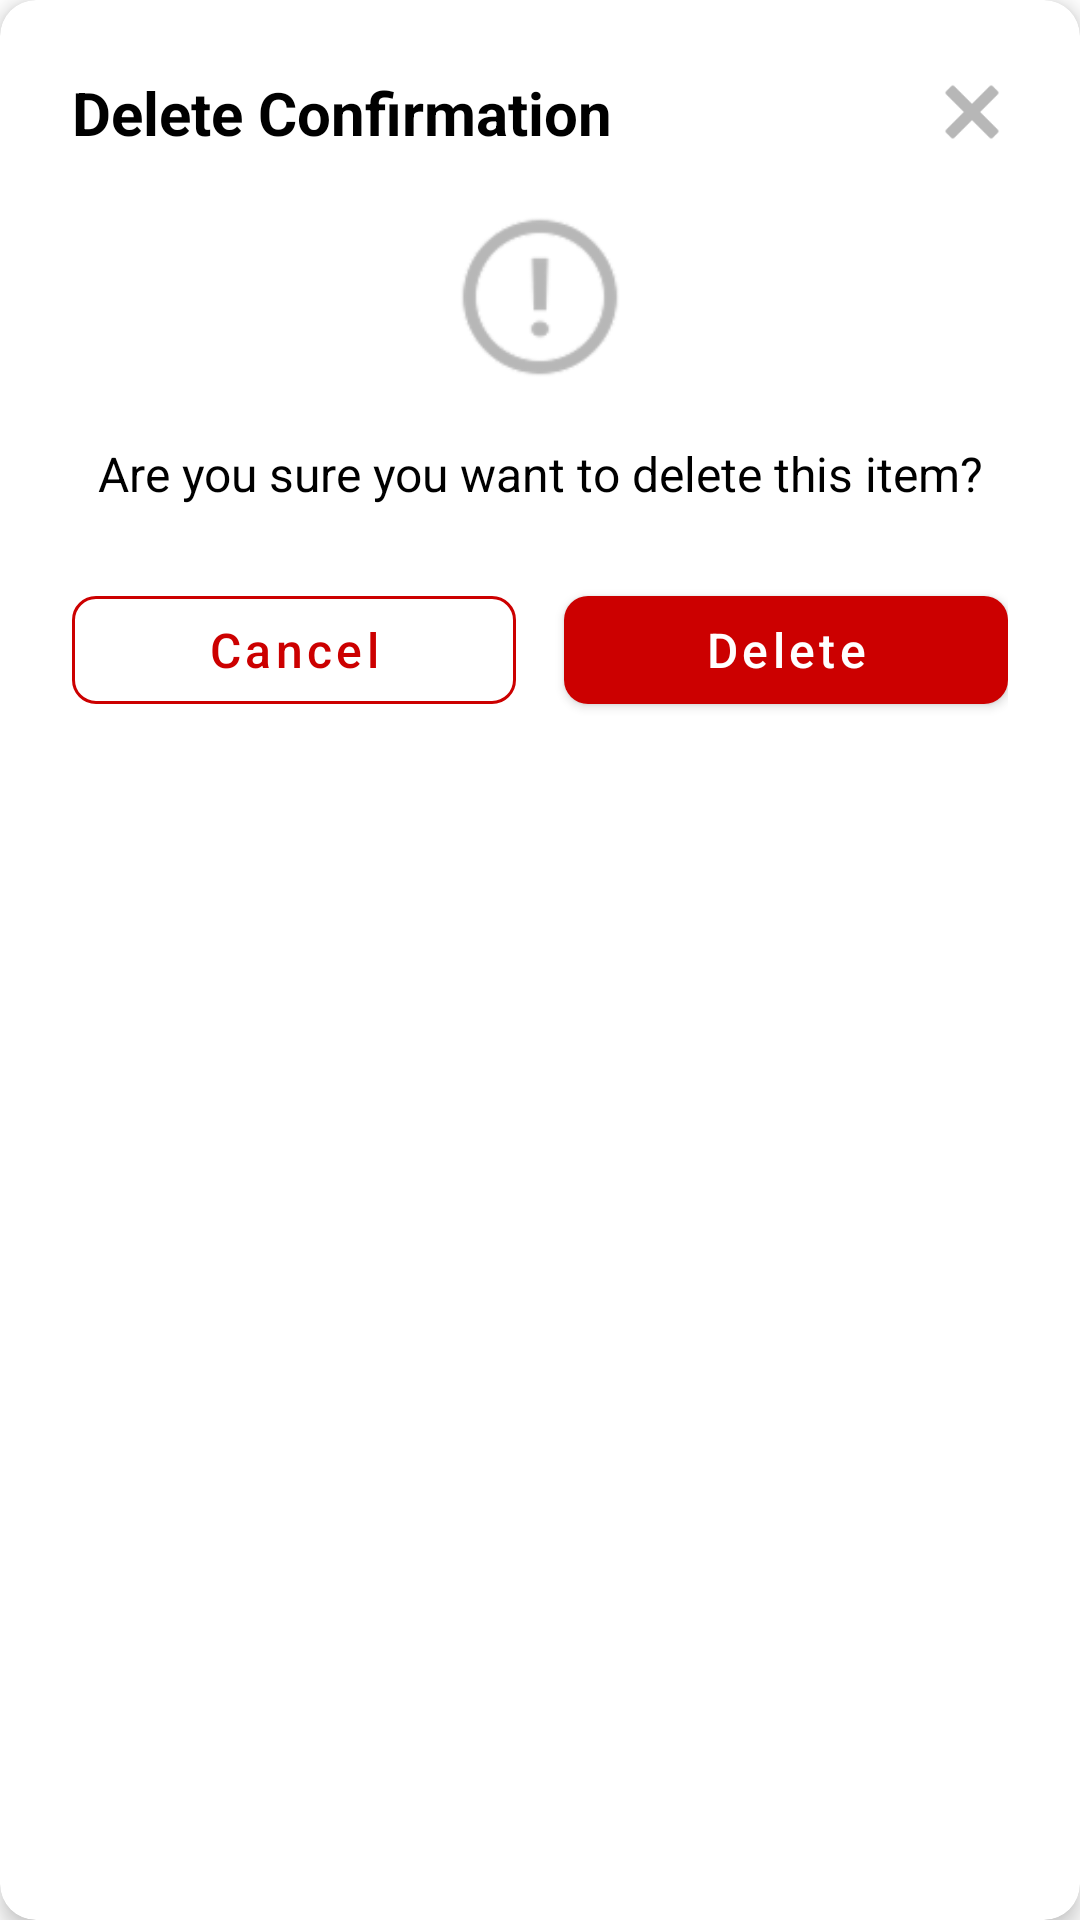

Where icons sit on this 1080 × 1920 app screen, as [x1,y1,x2,y2]:
Close dialog: [945,85,999,139]
Warning icon: [463,220,617,374]
